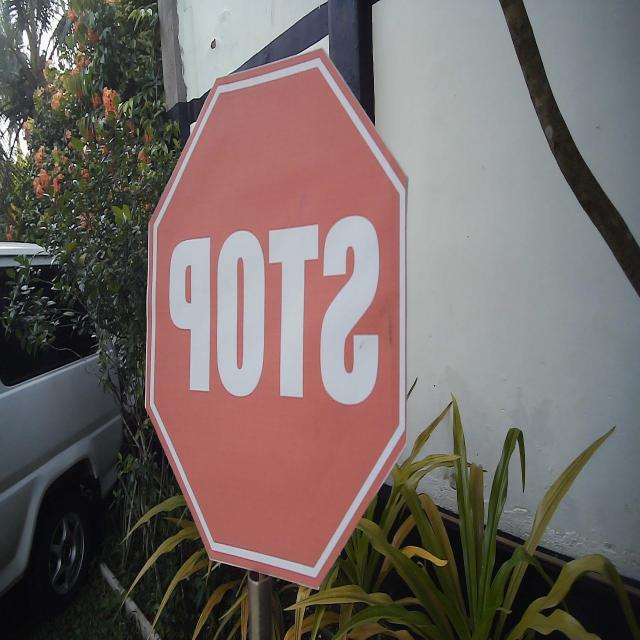stop: (142, 43, 411, 597)
